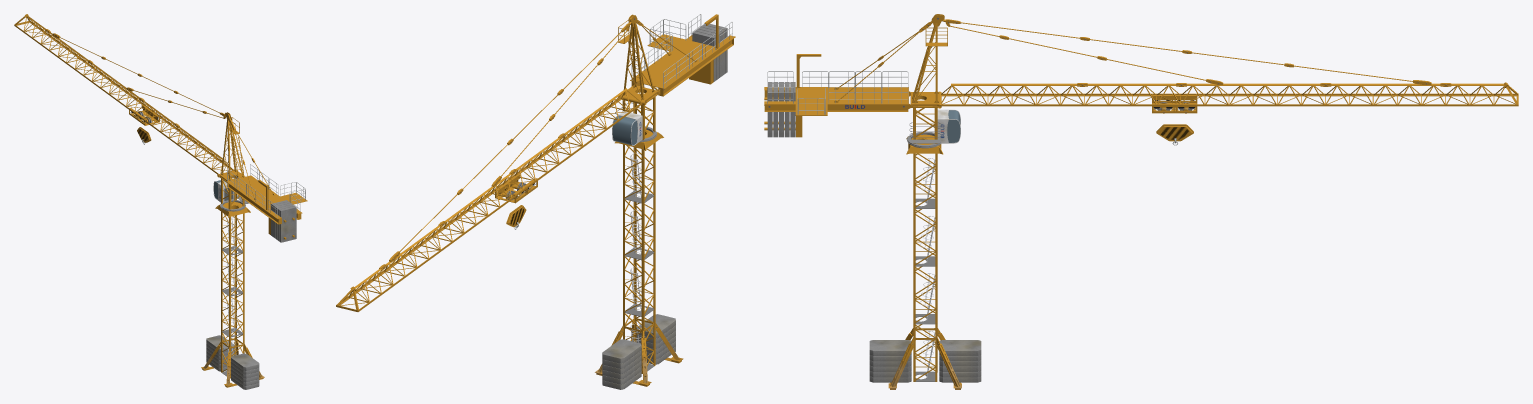
Rendered from crane.fbx.
3 views of the same model, side by side, from view 1: azimuth 30°, elevation 25°; view 2: azimuth 150°, elevation 25°; view 3: azimuth 270°, elevation 25° (orthographic). The views are drawn at different scales.
Visible parts, largest first — view 1: rotator, base, pully; view 2: rotator, base, pully; view 3: rotator, base, pully.
Part boxes in pixels (x1=…): rotator: x1=14, y1=14, x2=307, y2=242; base: x1=201, y1=212, x2=264, y2=389; pully: x1=129, y1=104, x2=159, y2=125; rotator: x1=336, y1=14, x2=735, y2=311; base: x1=595, y1=142, x2=683, y2=389; pully: x1=495, y1=174, x2=537, y2=203; rotator: x1=764, y1=14, x2=1518, y2=154; base: x1=869, y1=153, x2=981, y2=389; pully: x1=1152, y1=94, x2=1197, y2=113.
Bounding box in the file's own units: 2573 × 13259 × 24996.
Materials: 3 (3 with a texture image).
